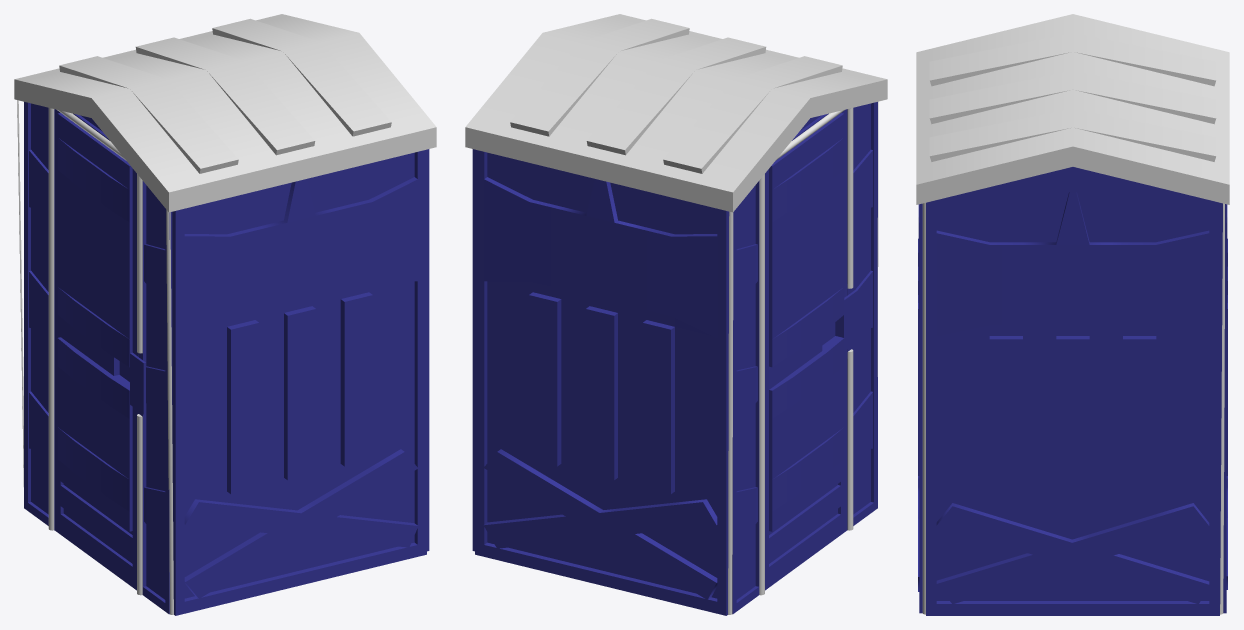
Rendered from porto_potty.fbx.
3 renders of one model, left to right at view 1: azimuth 30°, elevation 25°; view 2: azimuth 150°, elevation 25°; view 3: azimuth 270°, elevation 25°, orthographic.
Parts seen in each view (by area): view 1: side_L, top1, door, Front_L, front_R, door_frame, corner_pipe_Ext4, back, corner_pipe_Ext3; view 2: side_L1, top1, door, front_R, Front_L, door_frame, corner_pipe_Ext3, back; view 3: back, top1, side_L1, side_L, corner_pipe_Ext1, corner_pipe_Ext2.
Boxes of the visible parts, x1=… form: side_L: x1=172, y1=149, x2=426, y2=615; top1: x1=14, y1=14, x2=436, y2=212; door: x1=54, y1=109, x2=145, y2=590; Front_L: x1=138, y1=181, x2=172, y2=614; front_R: x1=24, y1=102, x2=54, y2=530; door_frame: x1=48, y1=108, x2=142, y2=595; corner_pipe_Ext4: x1=166, y1=210, x2=173, y2=614; back: x1=427, y1=149, x2=429, y2=551; corner_pipe_Ext3: x1=17, y1=100, x2=23, y2=486; side_L1: x1=475, y1=149, x2=729, y2=615; top1: x1=465, y1=14, x2=887, y2=212; door: x1=765, y1=109, x2=857, y2=590; front_R: x1=732, y1=181, x2=759, y2=614; Front_L: x1=847, y1=102, x2=877, y2=530; door_frame: x1=759, y1=108, x2=853, y2=595; corner_pipe_Ext3: x1=728, y1=211, x2=733, y2=614; back: x1=472, y1=149, x2=474, y2=551; back: x1=926, y1=167, x2=1219, y2=615; top1: x1=916, y1=14, x2=1229, y2=204; side_L1: x1=1220, y1=203, x2=1227, y2=613; side_L: x1=918, y1=203, x2=922, y2=613; corner_pipe_Ext1: x1=922, y1=203, x2=925, y2=614; corner_pipe_Ext2: x1=1220, y1=203, x2=1224, y2=614.
Bounding box in the file's own units: 161 × 267 × 161.
